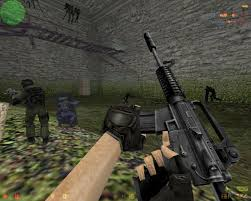gun: (129, 1, 240, 199)
